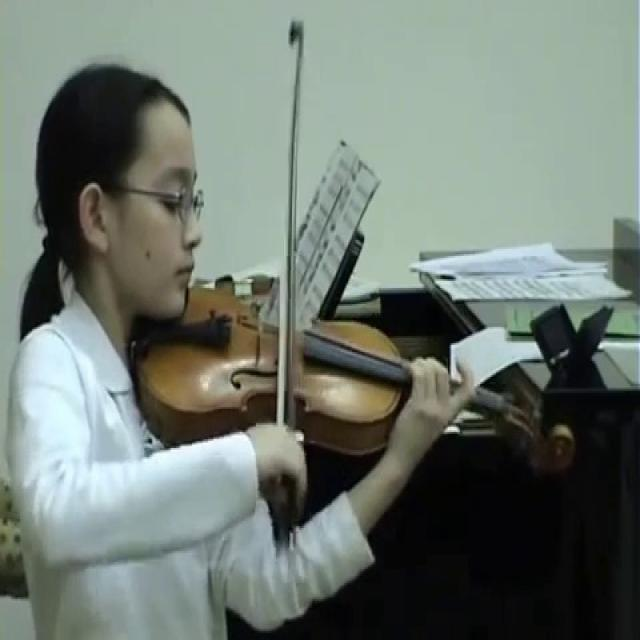Violin: (117, 271, 585, 500)
